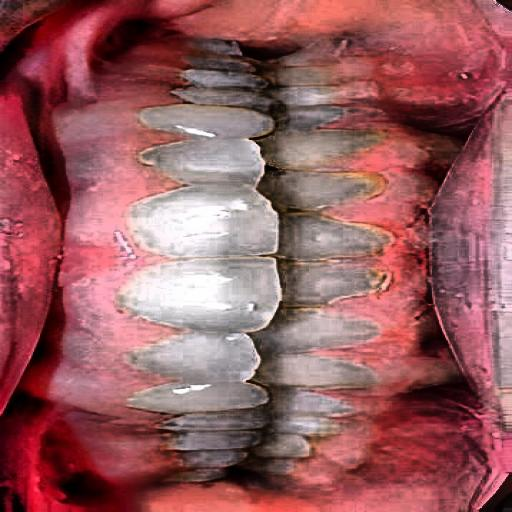Healthy: (151, 50, 344, 435)
